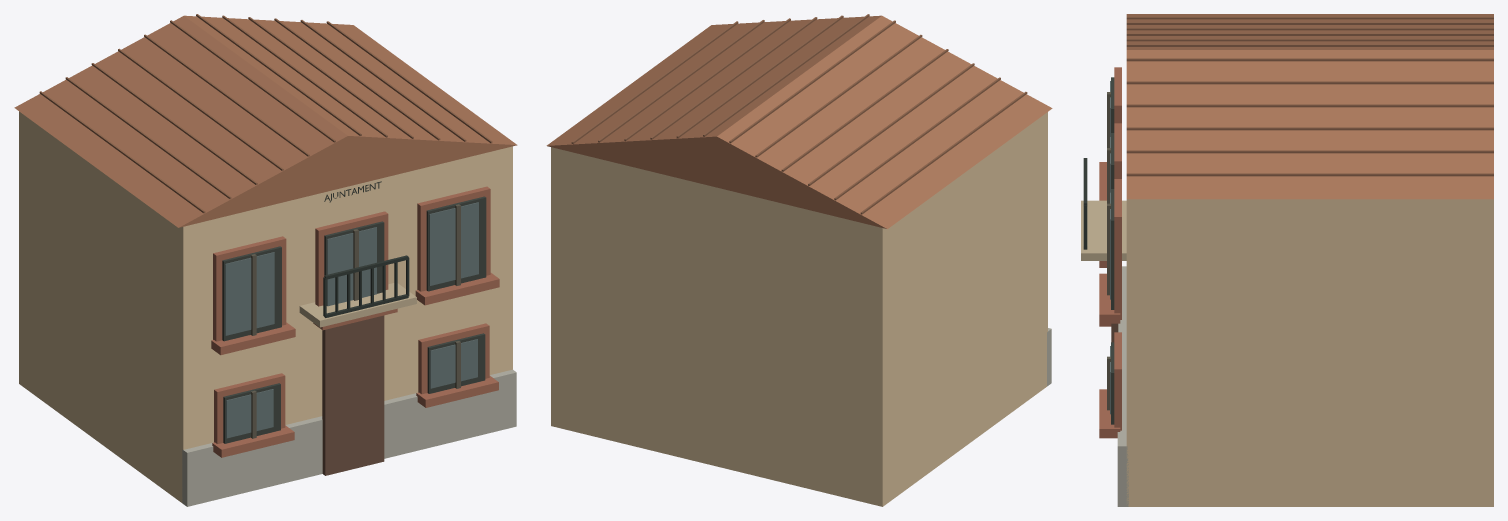
File: publichall.glb
3 views of the same model, side by side, from view 1: azimuth 30°, elevation 25°; view 2: azimuth 150°, elevation 25°; view 3: azimuth 270°, elevation 25° (orthographic). The views are drawn at different scales.
Parts seen in each view (by area): view 1: publichall Town #e4cba5, publichall Town #ad795b.002, publichall Town #b9b7aa, publichall Town #aa7059, publichall Town #6a7979.003, publichall Town #745748, publichall Town #94694f.002, publichall Town #424943.003, publichall Town #666153.003, publichall Town #343d38.001, publichall Town #c6b596; view 2: publichall Town #e4cba5, publichall Town #ad795b.002, publichall Town #94694f.002; view 3: publichall Town #e4cba5, publichall Town #ad795b.002, publichall Town #94694f.002, publichall Town #aa7059, publichall Town #c6b596, publichall Town #b9b7aa, publichall Town #424943.003, publichall Town #666153.003, publichall Town #343d38.001.
Part boxes in pixels (x1=…): publichall Town #e4cba5: x1=19, y1=111, x2=512, y2=502; publichall Town #ad795b.002: x1=14, y1=15, x2=517, y2=227; publichall Town #b9b7aa: x1=182, y1=369, x2=516, y2=506; publichall Town #aa7059: x1=211, y1=186, x2=499, y2=457; publichall Town #6a7979.003: x1=225, y1=202, x2=478, y2=438; publichall Town #745748: x1=322, y1=315, x2=384, y2=475; publichall Town #94694f.002: x1=39, y1=14, x2=492, y2=213; publichall Town #424943.003: x1=222, y1=196, x2=486, y2=443; publichall Town #666153.003: x1=251, y1=204, x2=460, y2=438; publichall Town #343d38.001: x1=323, y1=255, x2=409, y2=317; publichall Town #c6b596: x1=299, y1=283, x2=416, y2=327; publichall Town #e4cba5: x1=551, y1=112, x2=1047, y2=506; publichall Town #ad795b.002: x1=546, y1=15, x2=1052, y2=228; publichall Town #94694f.002: x1=571, y1=14, x2=1027, y2=214; publichall Town #e4cba5: x1=1126, y1=199, x2=1493, y2=506; publichall Town #ad795b.002: x1=1126, y1=14, x2=1493, y2=199; publichall Town #94694f.002: x1=1126, y1=16, x2=1493, y2=176; publichall Town #aa7059: x1=1099, y1=67, x2=1121, y2=438; publichall Town #c6b596: x1=1081, y1=200, x2=1126, y2=260; publichall Town #b9b7aa: x1=1117, y1=266, x2=1128, y2=506; publichall Town #424943.003: x1=1111, y1=77, x2=1114, y2=424; publichall Town #666153.003: x1=1107, y1=92, x2=1110, y2=410; publichall Town #343d38.001: x1=1083, y1=158, x2=1087, y2=249.
Size of the model in its own units: 5.25 by 4.85 by 4.95.
